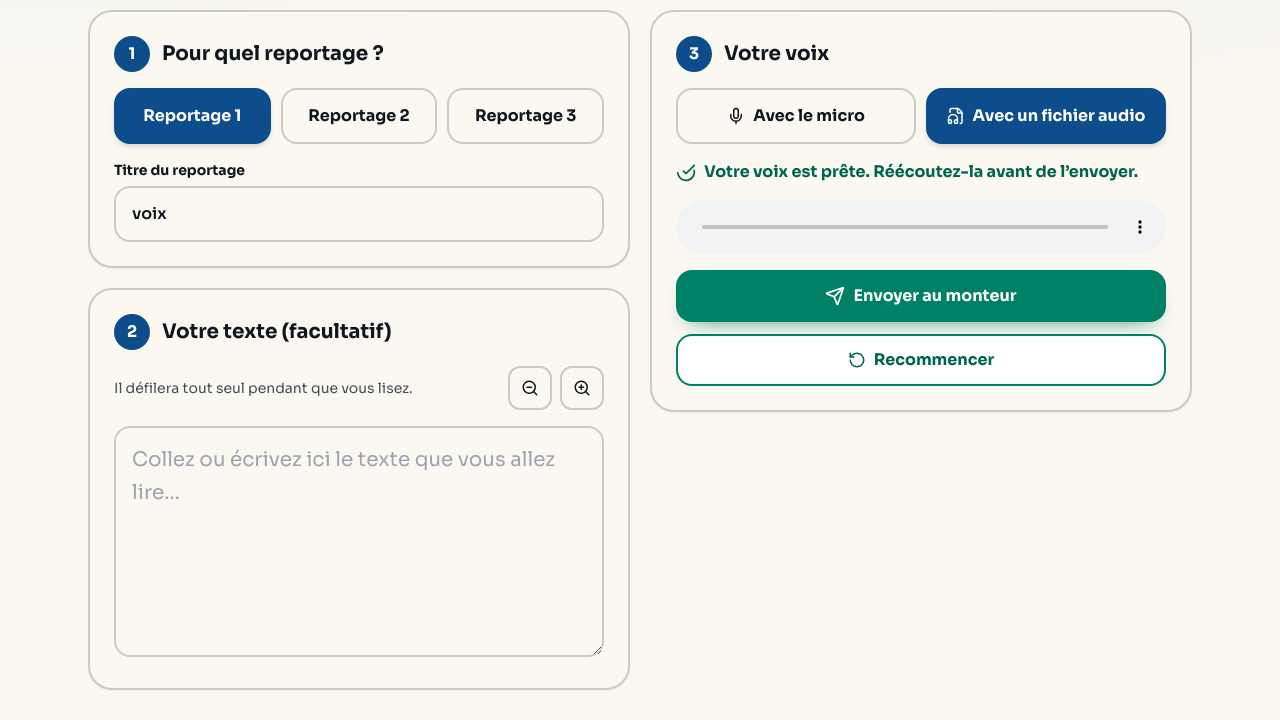
Test: StudioVoixJournaliste › voix prête : « Envoyer » d’abord, et « Recommencer » demande avant d’effacer
Earlier steps of the test are not shown.
(page scrolled)
Click the button "Recommencer".
click(921, 360)  # box 676,334 -> 1166,386
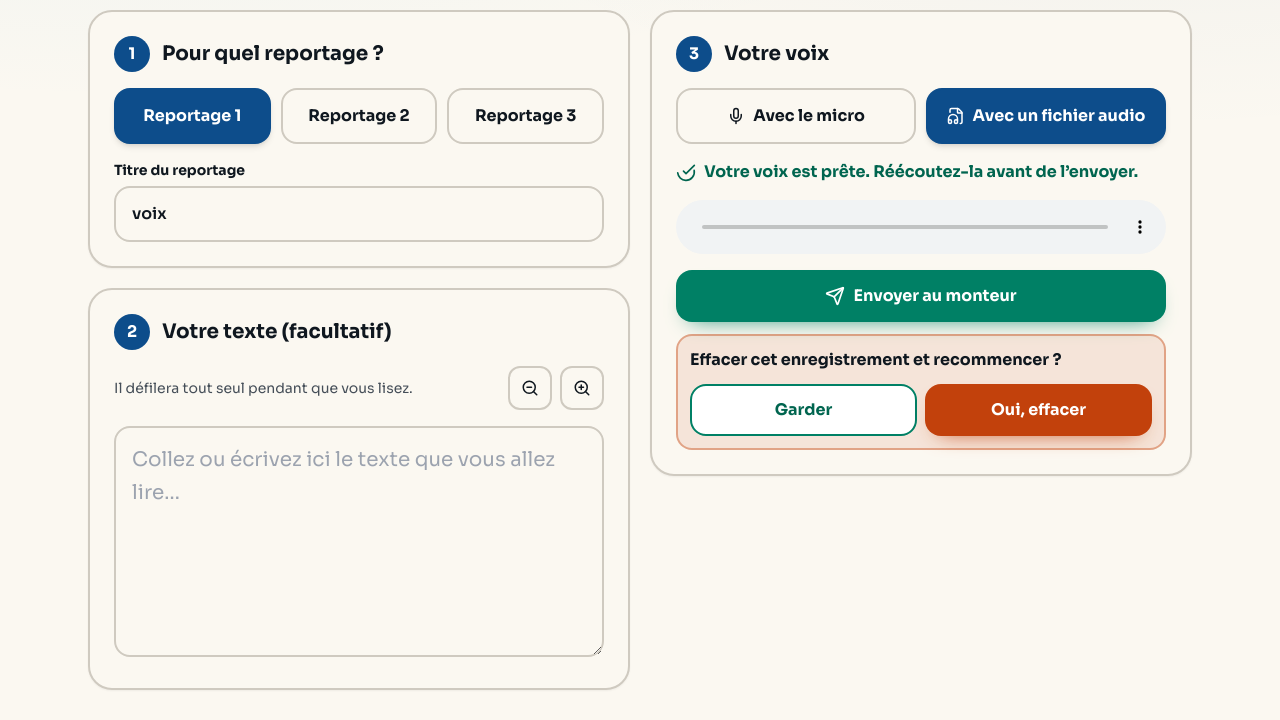
Click the button "Garder".
click(804, 410)  # box 690,384 -> 917,436
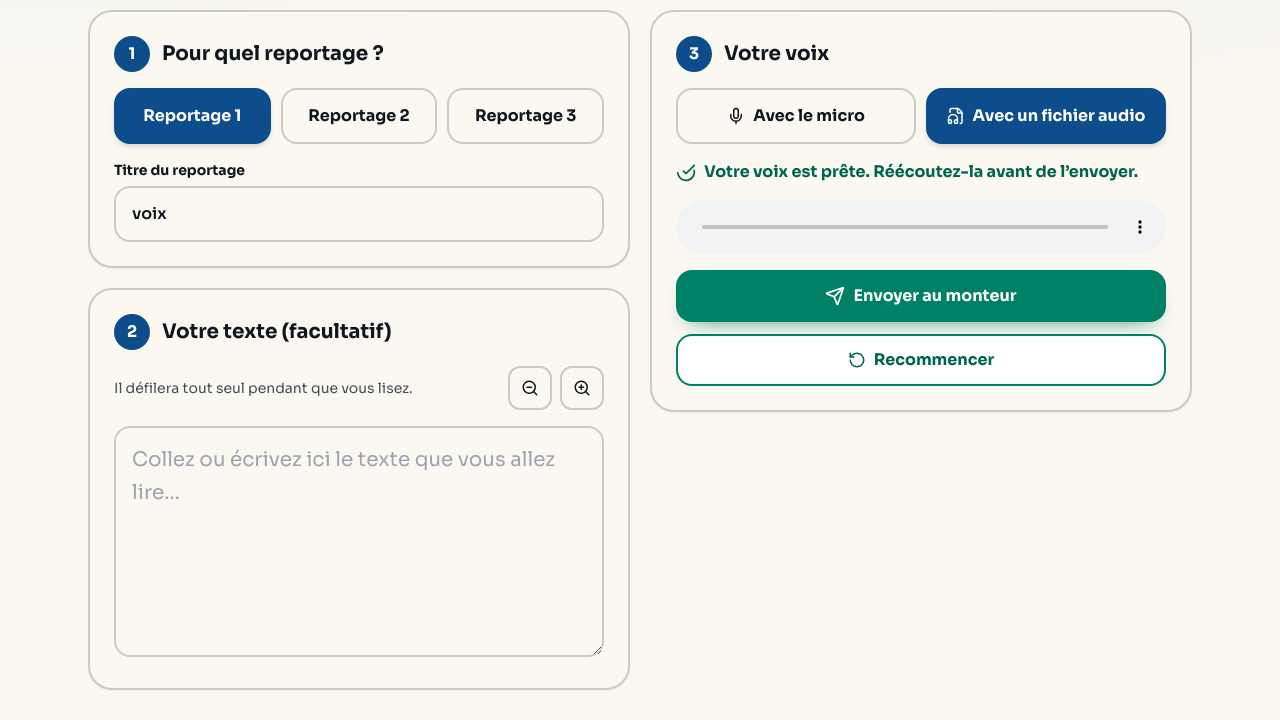
expect the button "Envoyer au monteur" is shown: met, box 676,270 -> 1166,322
Click the button "Recommencer".
click(921, 360)  # box 676,334 -> 1166,386
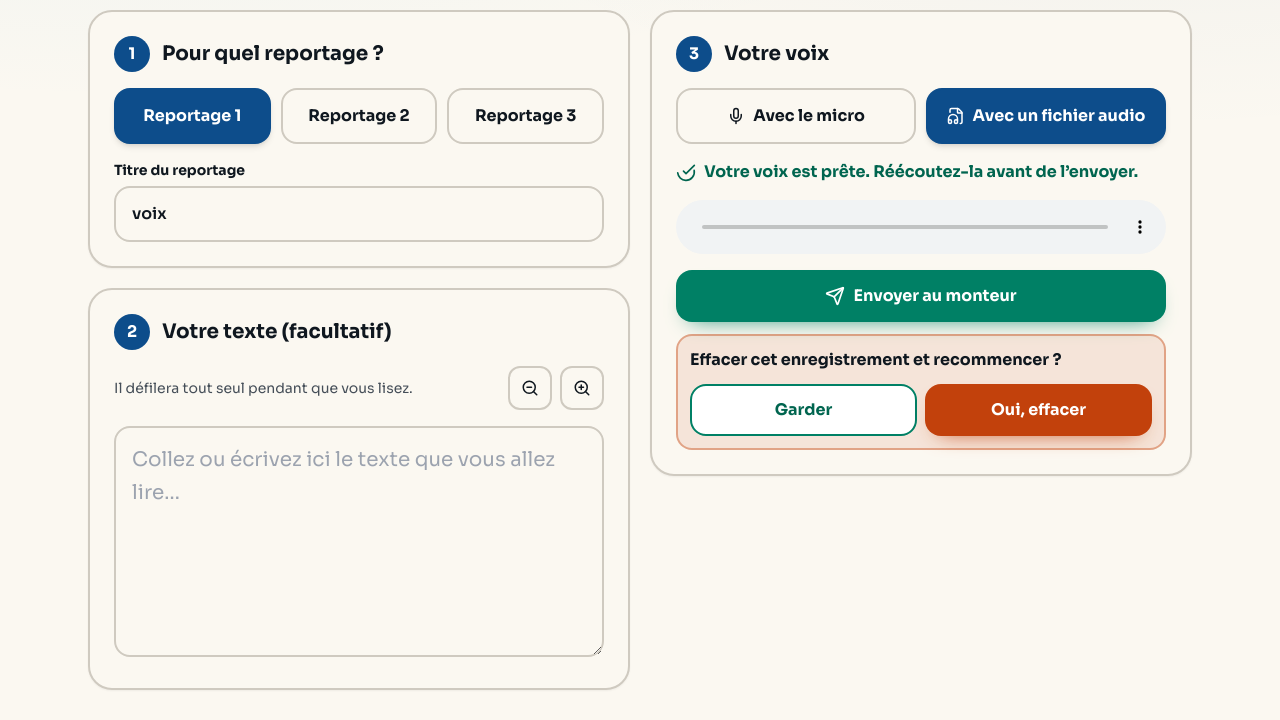
Click the button "Oui, effacer".
click(1038, 410)  # box 925,384 -> 1152,436
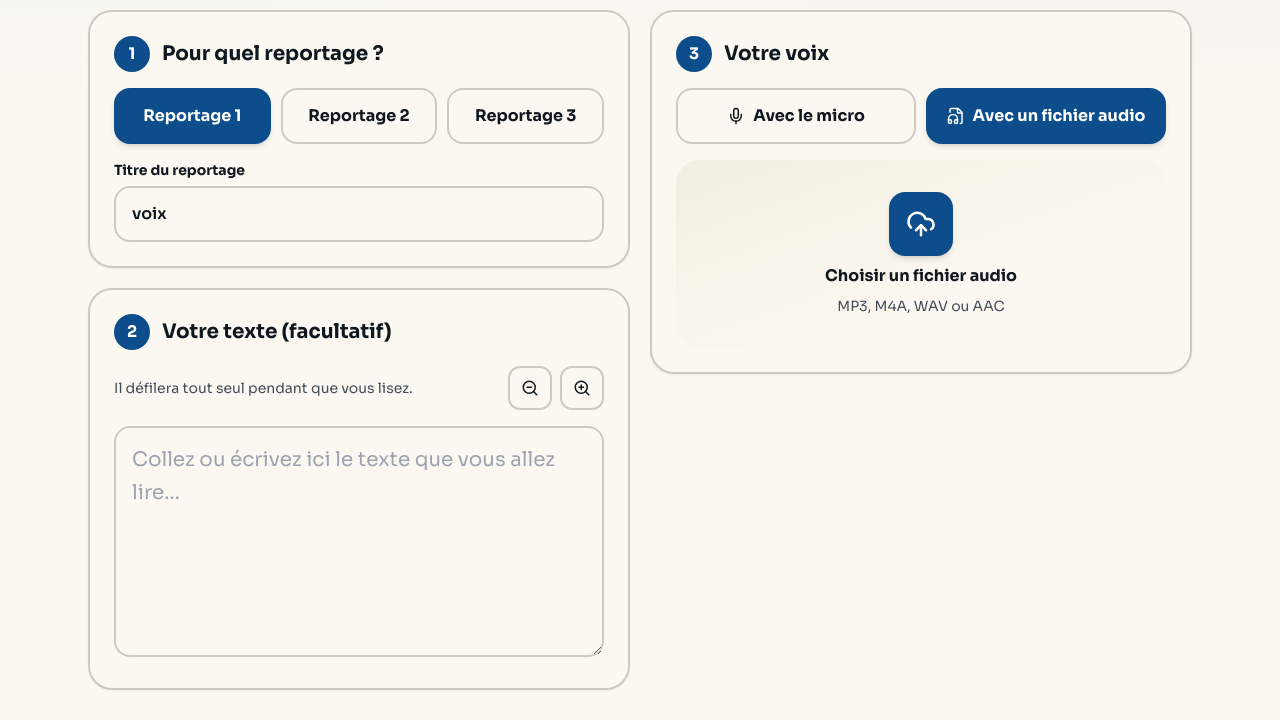
expect the button "Envoyer au monteur" is gone: met
